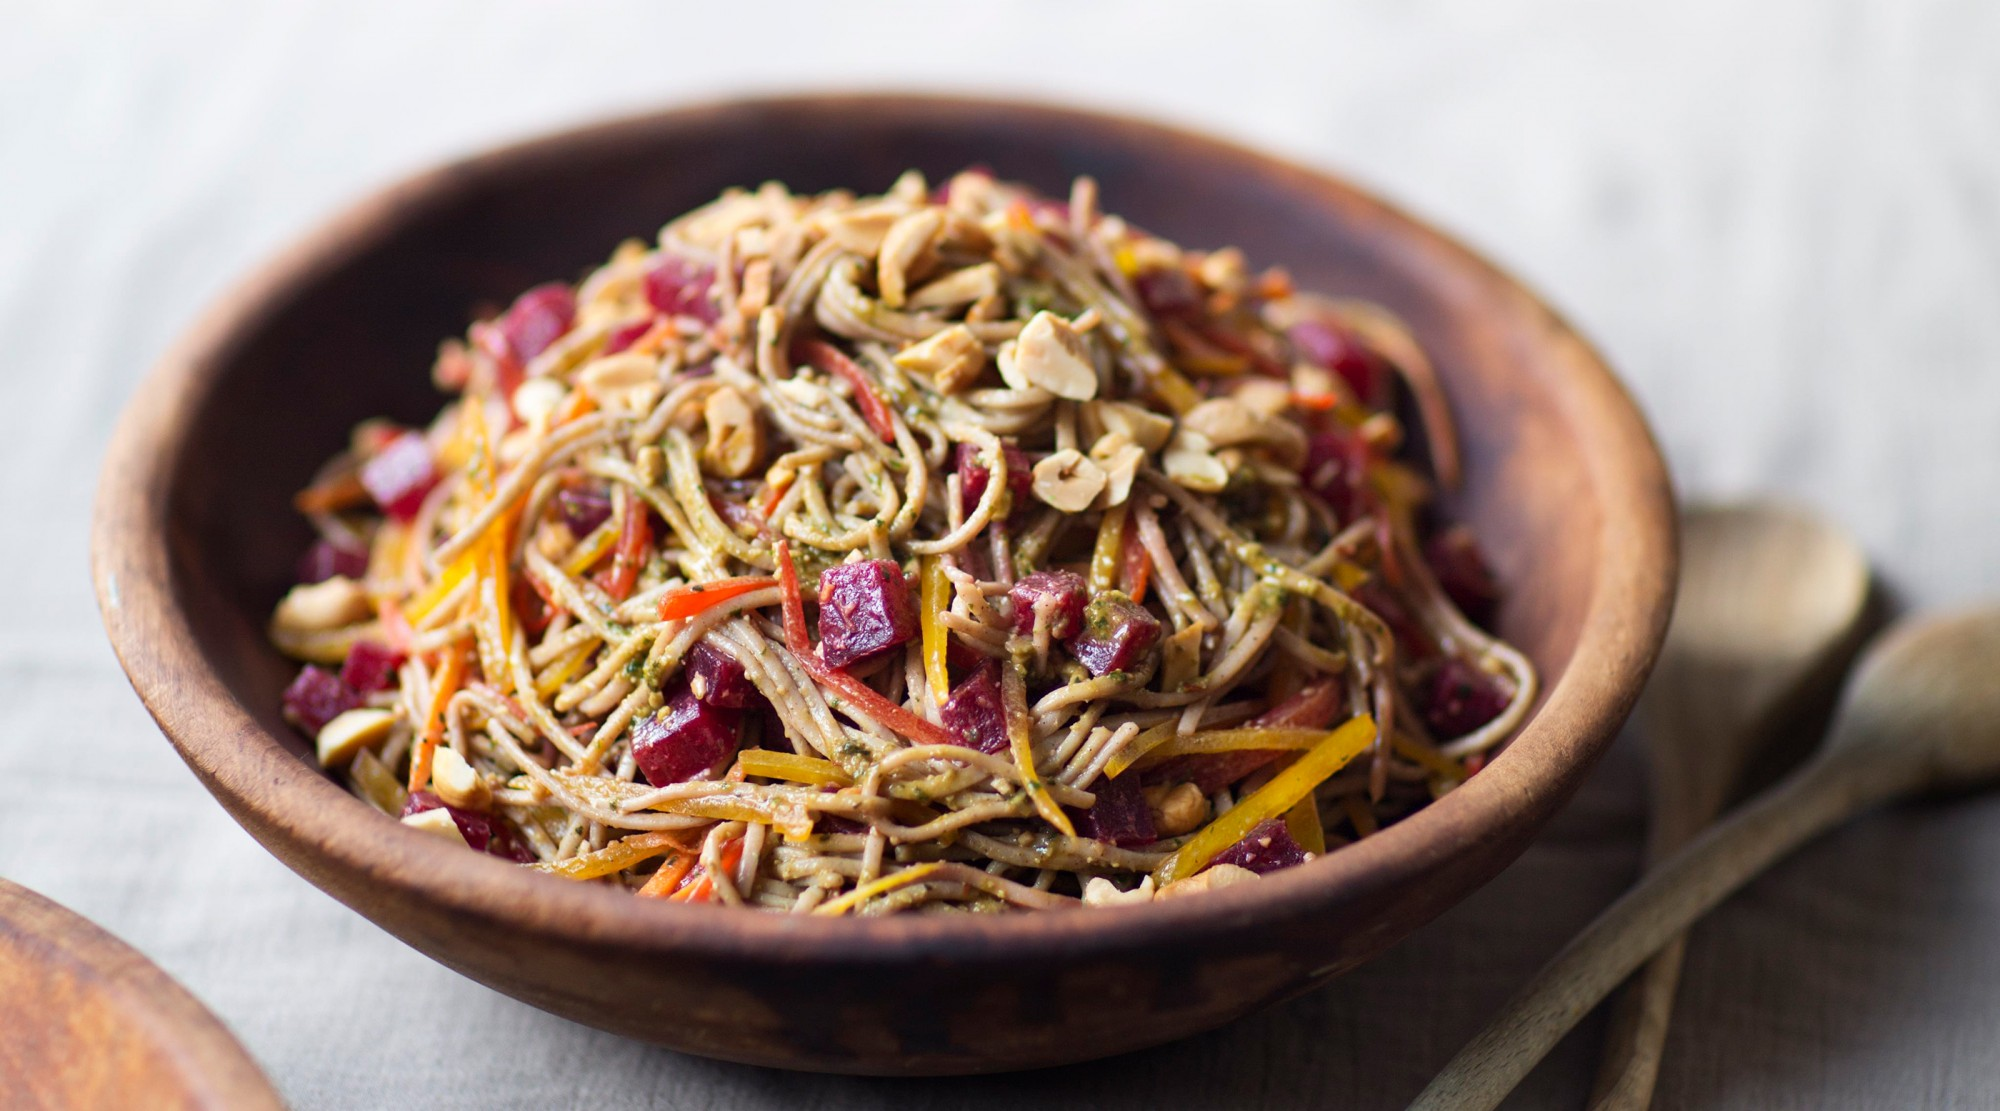Soba: (302, 163, 1532, 874)
